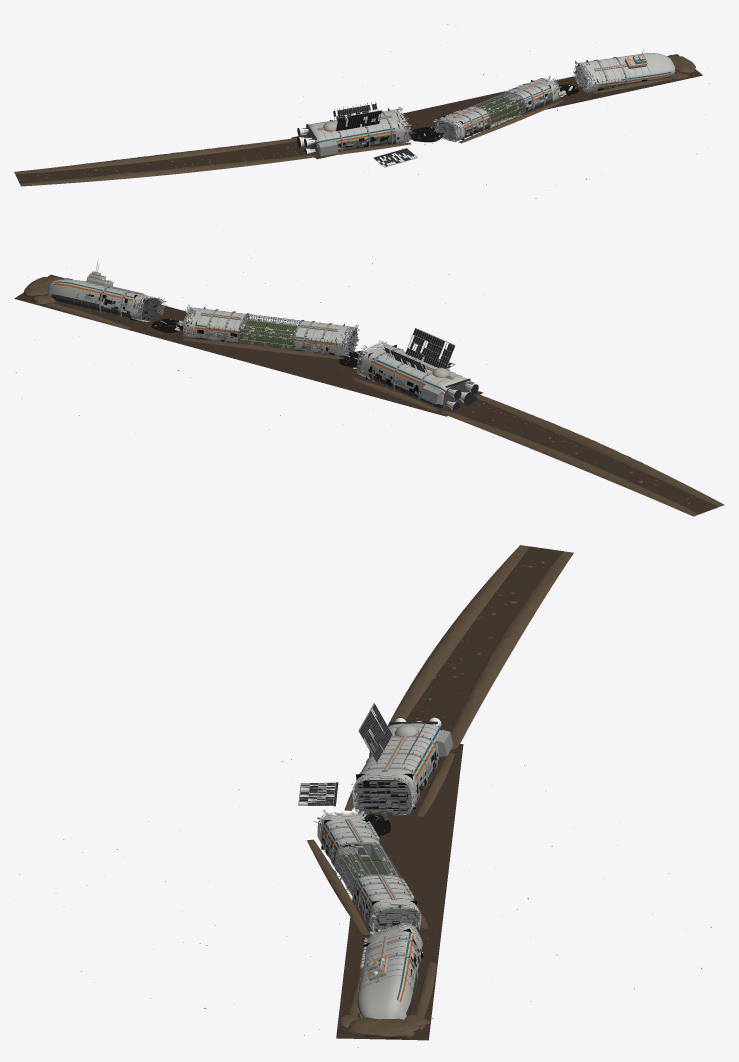
File: colony-ship.glb
3 renders of one model, top to bottom at view 1: azimuth 30°, elevation 25°; view 2: azimuth 150°, elevation 25°; view 3: azimuth 270°, elevation 25°, orthographic. The views are drawn at different scales.
Visible parts, largest first — view 1: C0_0_lod0, C-1_-1_lod0, C-6_0_lod0, C4_0_lod0, C-6_-1_lod0, C-3_-1_lod0, C-8_0_lod0, C-7_0_lod0, C2_0_lod0, C-2_-1_lod0, C6_0_lod0; view 2: C0_0_lod0, C-1_-1_lod0, C-6_0_lod0, C4_0_lod0, C-3_-1_lod0, C-7_0_lod0, C2_0_lod0, C-6_-1_lod0; view 3: C0_0_lod0, C-1_-1_lod0, C4_0_lod0, C-6_0_lod0, C-5_0_lod0, C6_0_lod0, C1_0_lod0, C-2_-1_lod0, C-7_0_lod0.
Boxes of the visible parts, x1,y1,x2,y2 form: C0_0_lod0: (14,54,702,186); C-1_-1_lod0: (436,78,559,141); C-6_0_lod0: (306,102,408,154); C4_0_lod0: (574,53,675,92); C-6_-1_lod0: (358,110,407,160); C-3_-1_lod0: (437,107,486,141); C-8_0_lod0: (297,123,337,155); C-7_0_lod0: (323,107,358,149); C2_0_lod0: (559,60,595,94); C-2_-1_lod0: (465,101,502,127); C6_0_lod0: (668,55,695,74); C0_0_lod0: (14,274,724,516); C-1_-1_lod0: (184,307,356,356); C-6_0_lod0: (357,343,469,408); C4_0_lod0: (47,277,163,320); C-3_-1_lod0: (299,322,356,355); C-7_0_lod0: (406,340,455,402); C2_0_lod0: (132,295,177,331); C-6_-1_lod0: (405,328,432,360); C0_0_lod0: (307,545,573,1040); C-1_-1_lod0: (317,813,420,931); C4_0_lod0: (357,924,422,1020); C-6_0_lod0: (353,723,441,814); C-5_0_lod0: (352,747,422,815); C6_0_lod0: (348,1017,420,1038); C1_0_lod0: (367,898,424,936); C-2_-1_lod0: (328,835,389,879); C-7_0_lod0: (369,704,439,778).
Size of what is drawn, in the model's own units: 4873 by 334 by 2911.
